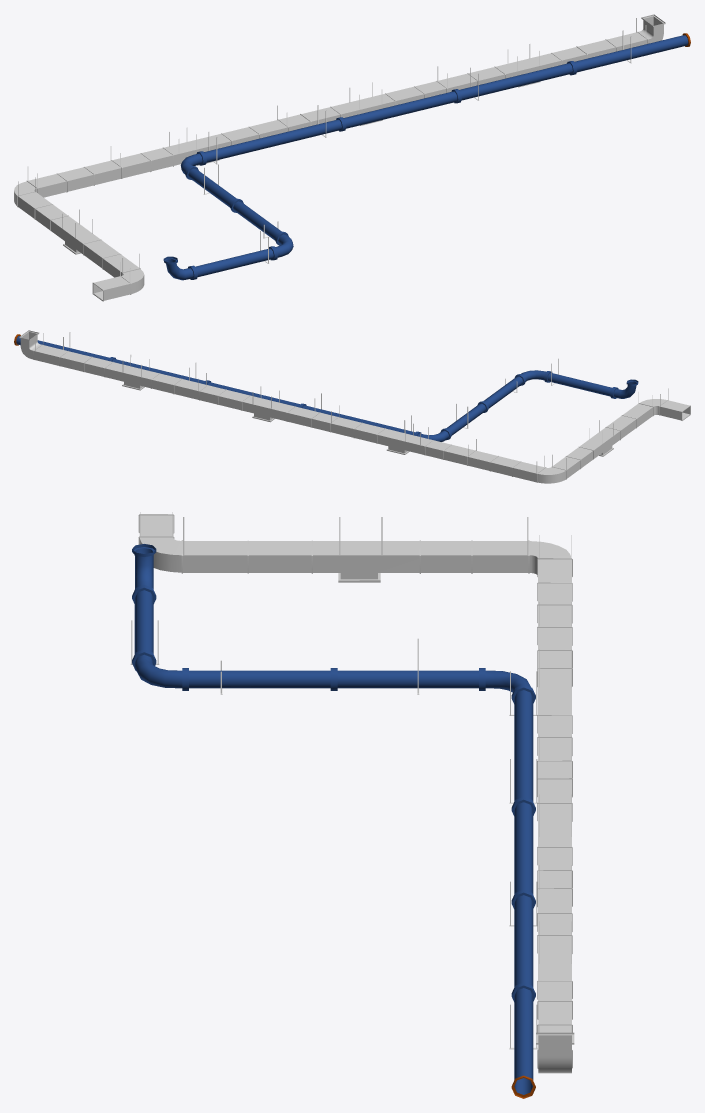
Rendered from SM_H_Building_Tide_Library_01D_ATLAS.fbx.
3 renders of one model, top to bottom at view 1: azimuth 30°, elevation 25°; view 2: azimuth 150°, elevation 25°; view 3: azimuth 270°, elevation 25°, orthographic. The views are drawn at different scales.
Parts seen in each view (by area): view 1: SM_H_Building_Tide_Library_01D_ATLAS; view 2: SM_H_Building_Tide_Library_01D_ATLAS; view 3: SM_H_Building_Tide_Library_01D_ATLAS.
Part boxes in pixels (x1,y1,x2,y2): SM_H_Building_Tide_Library_01D_ATLAS: (14,14,690,301); SM_H_Building_Tide_Library_01D_ATLAS: (14,330,690,483); SM_H_Building_Tide_Library_01D_ATLAS: (130,512,574,1098).
Size of the model in its own units: 4047 by 1346 by 176.
